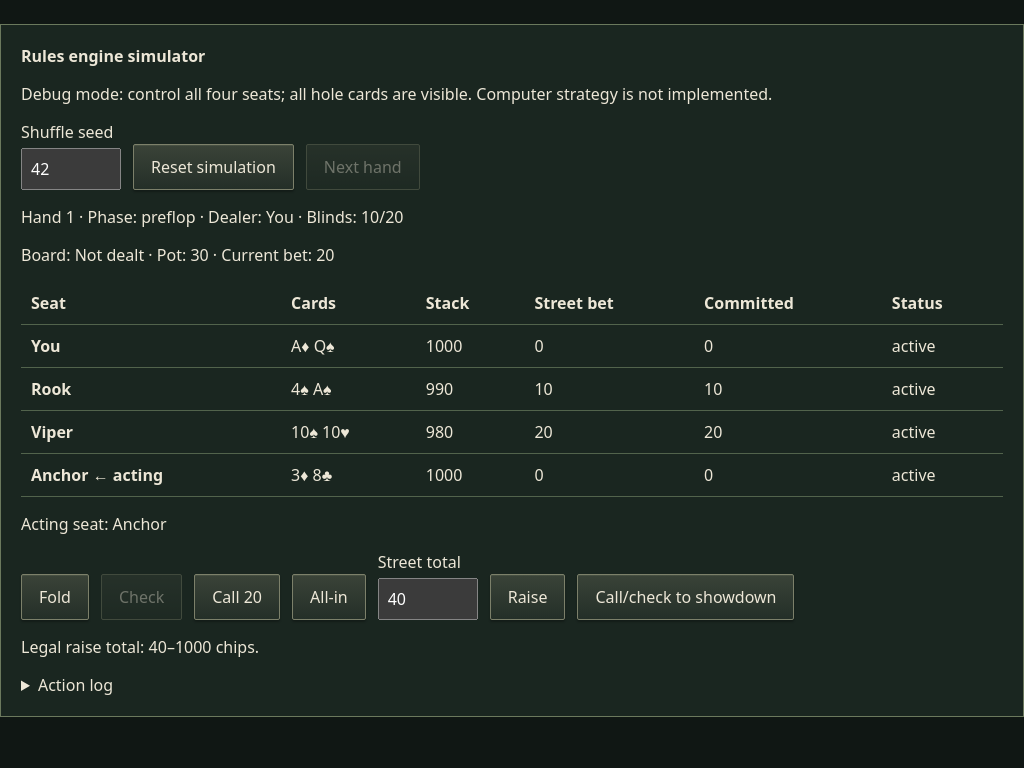
Test: plays a complete hand, rotates the button and resets the seeded session
Check: the message shows "Phase: preflop", box [21, 206, 404, 228]
Check: the button "Check" is disabled, box [101, 574, 182, 620]
Click the button "Call/check to showdown".
click(686, 597)  # box [577, 574, 794, 620]
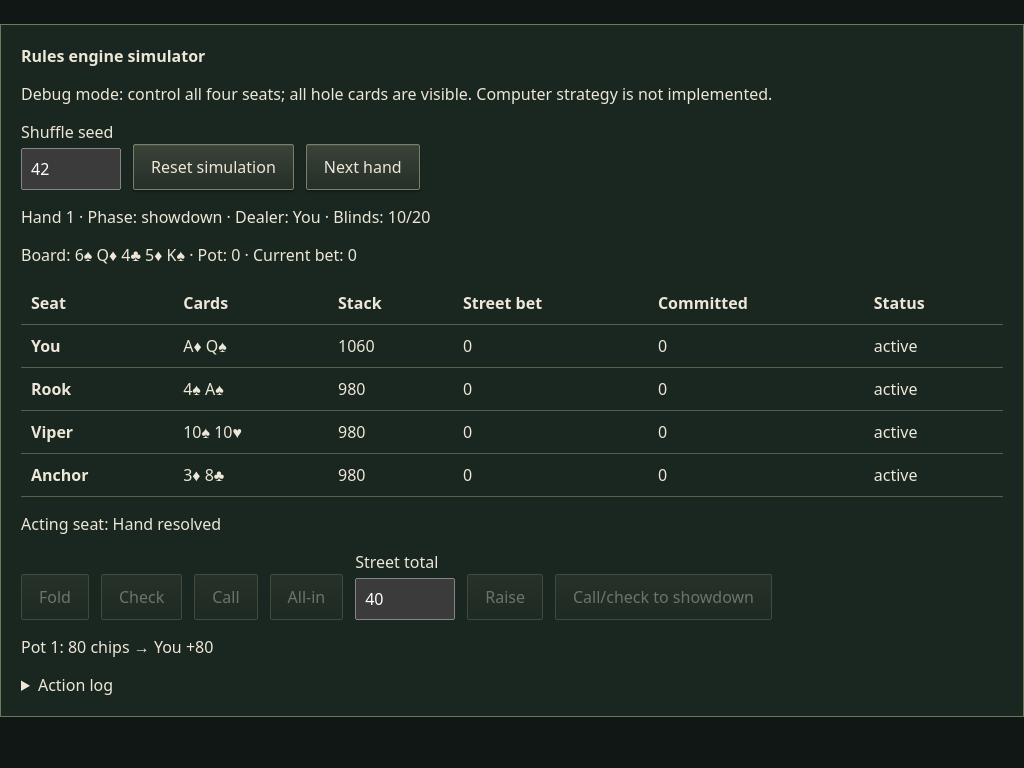
Check: the message shows "Phase: showdown", box [21, 206, 430, 228]
Check: the text "Pot 1: 80 chips → You +80" is shown, box [21, 636, 213, 658]
Click the button "Next hand".
click(363, 167)  # box [306, 144, 420, 190]
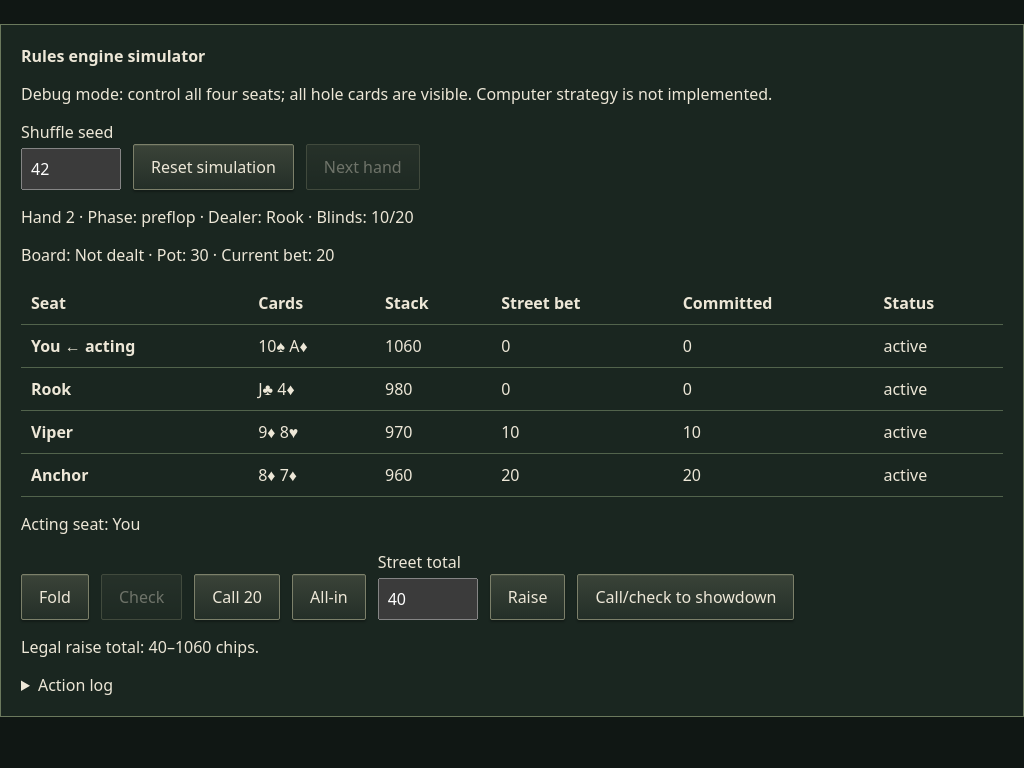
Check: the message shows "Hand 2", box [21, 206, 414, 228]
Check: the message shows "Dealer: Rook", box [21, 206, 414, 228]
Click the button "Reset simulation".
click(213, 167)  # box [133, 144, 294, 190]
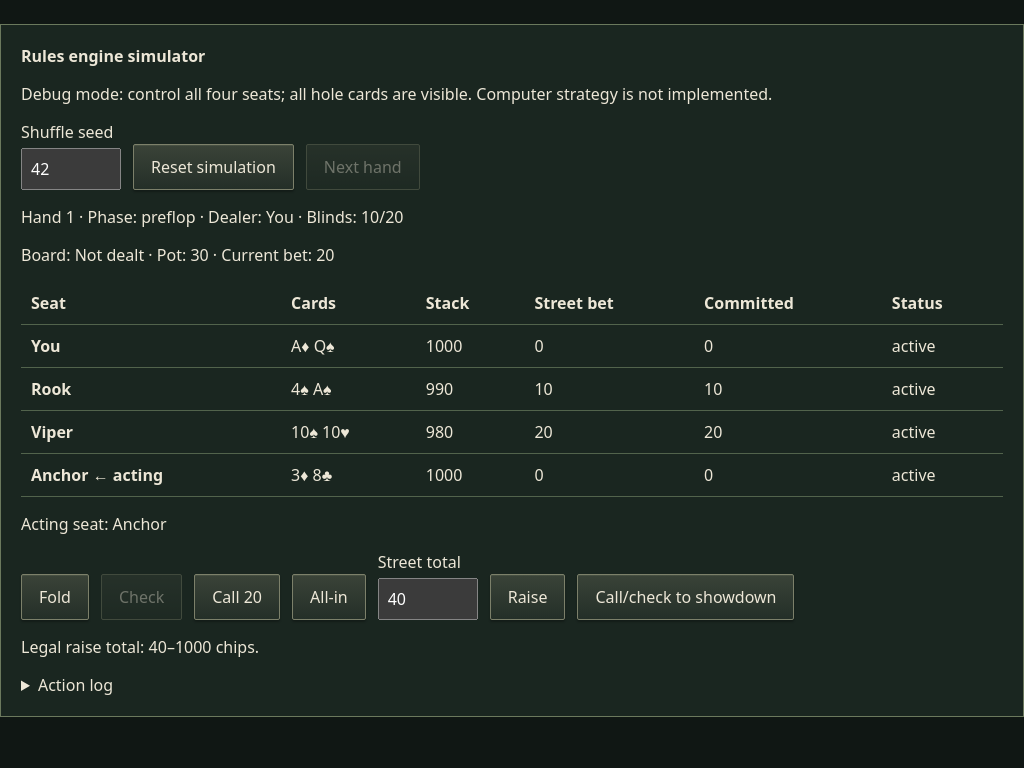
Check: the number of rows is 5, box [21, 282, 1003, 324]; [21, 324, 1003, 368]; [21, 368, 1003, 410]; [21, 410, 1003, 454]; [21, 454, 1003, 496]
Check: the message shows "Hand 1", box [21, 206, 404, 228]
